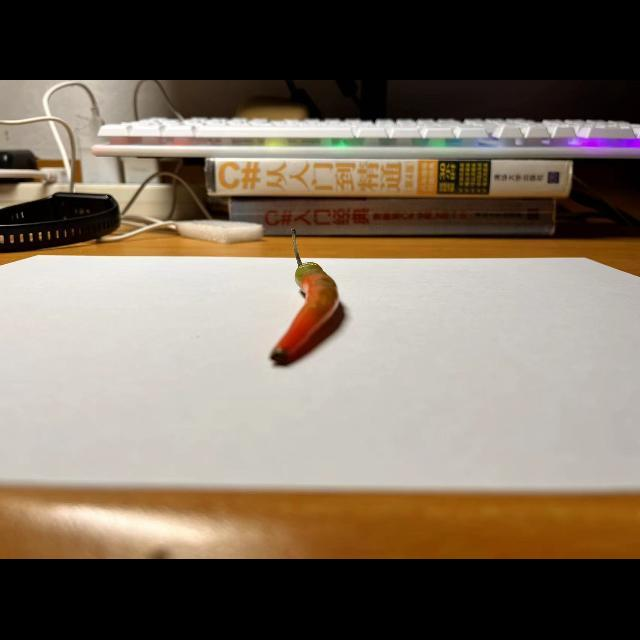chili_pepper: (266, 260, 348, 374)
